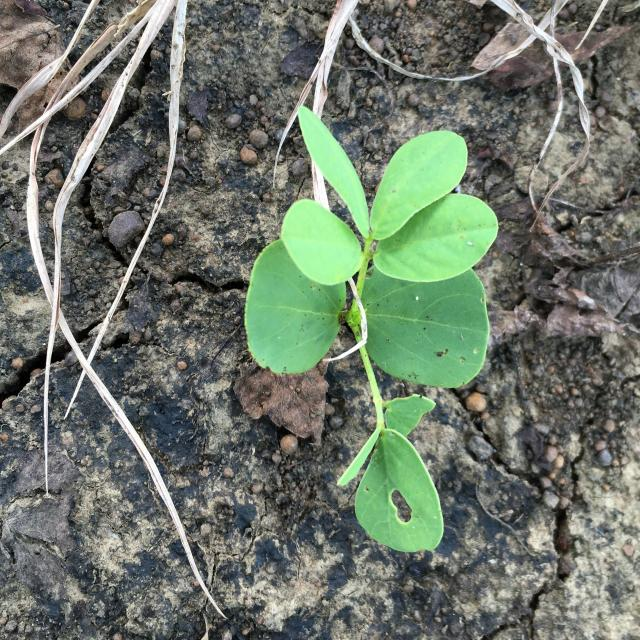Sicklepod: (245, 105, 498, 552)
